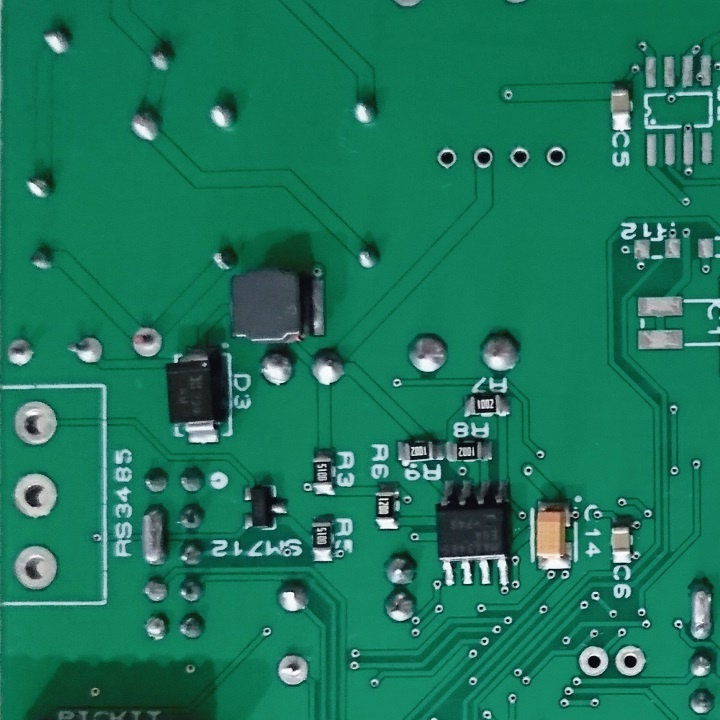F: (12, 469, 63, 520), (10, 398, 64, 446), (13, 543, 63, 593), (61, 332, 107, 369), (273, 650, 313, 689), (613, 641, 651, 680), (127, 325, 166, 360), (4, 336, 40, 369), (576, 645, 611, 676), (469, 144, 497, 172), (434, 146, 461, 172), (543, 144, 570, 170), (508, 146, 532, 169)
P: (683, 572, 719, 643), (139, 502, 170, 567)
